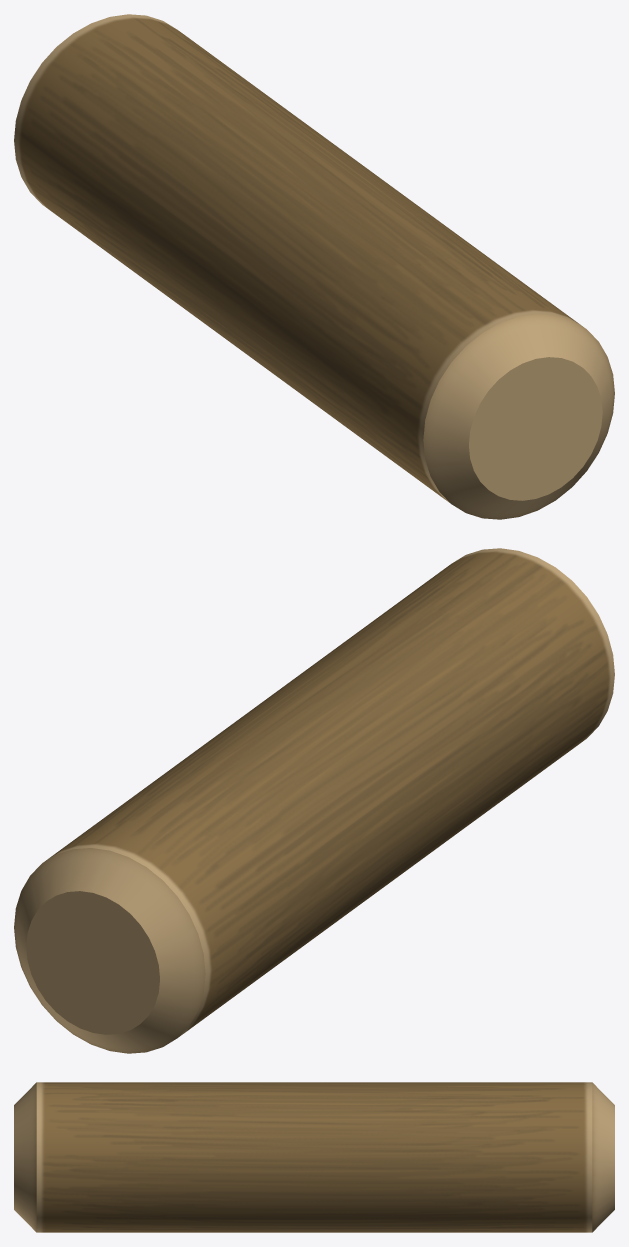
File: WoodTrree.fbx
3 renders of one model, top to bottom at view 1: azimuth 30°, elevation 25°; view 2: azimuth 150°, elevation 25°; view 3: azimuth 270°, elevation 25°, orthographic. The views are drawn at different scales.
Parts seen in each view (by area): view 1: WoodTree; view 2: WoodTree; view 3: WoodTree.
Boxes of the visible parts, bbox=[...] form: WoodTree: bbox=[14, 14, 614, 519]; WoodTree: bbox=[14, 548, 614, 1053]; WoodTree: bbox=[14, 1082, 614, 1232].
Size of the model in its own units: 1 by 1 by 4.
Materials: 1 (1 with a texture image).
